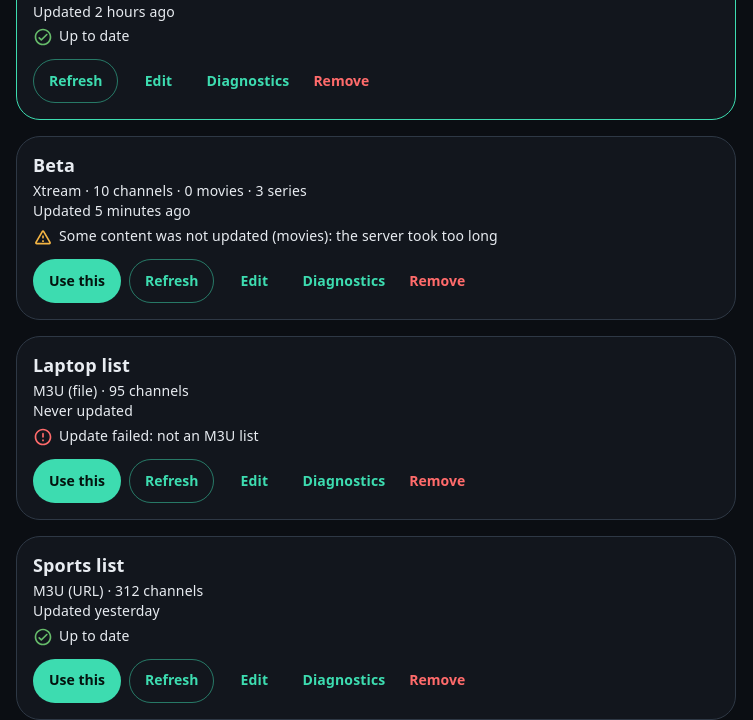
SRC-08 AC5 — refresh › M3U URL → syncM3u; Cancel stops it and waits for the worker to be idle
The image size is (753, 720).
(page scrolled)
Click the button "Refresh" below "Updated yesterday": coordinates (172, 681) left=129, top=659, right=214, bottom=703
(page scrolled)
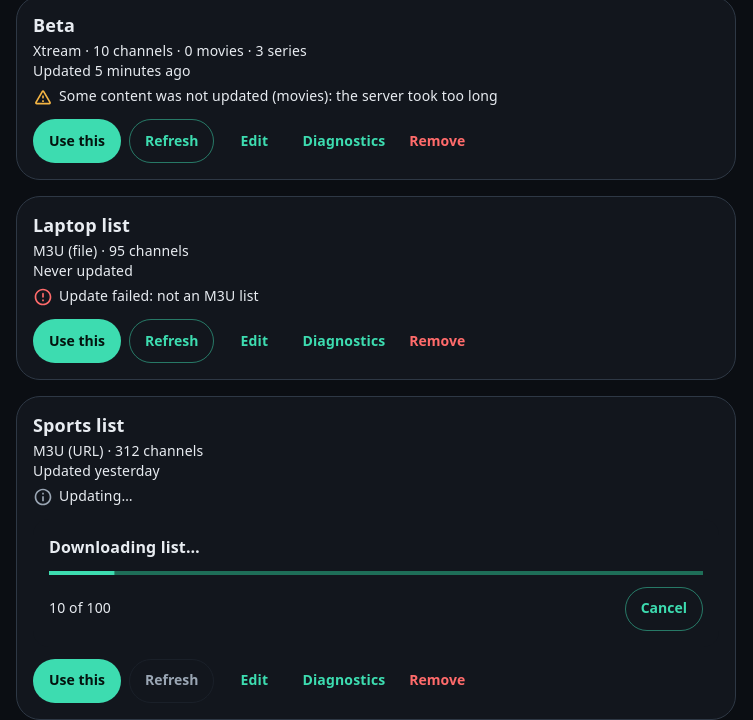
Click the button "Cancel": coordinates (664, 609) left=625, top=587, right=703, bottom=631
(page scrolled)
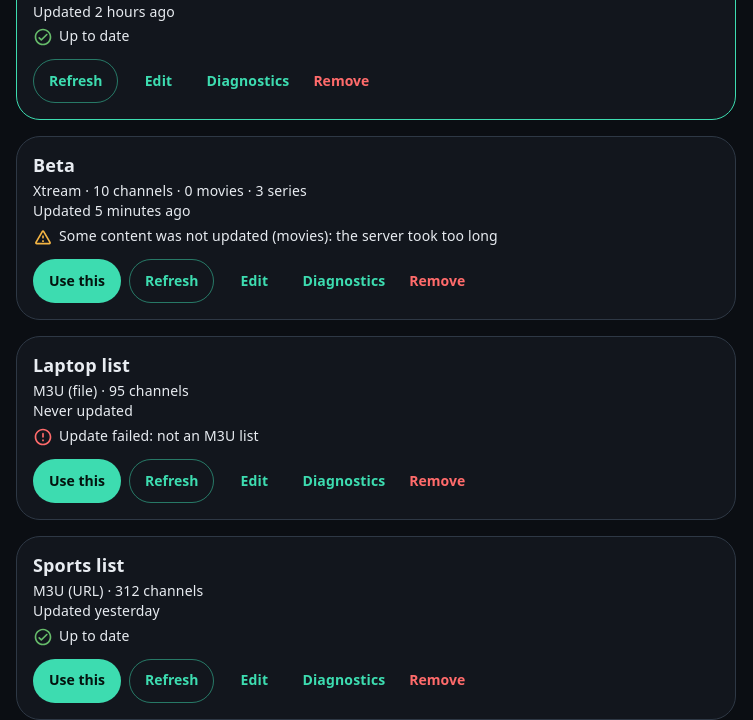
expect the button "Refresh" below "Updated yesterday" is enabled: met, box left=129, top=659, right=214, bottom=703
